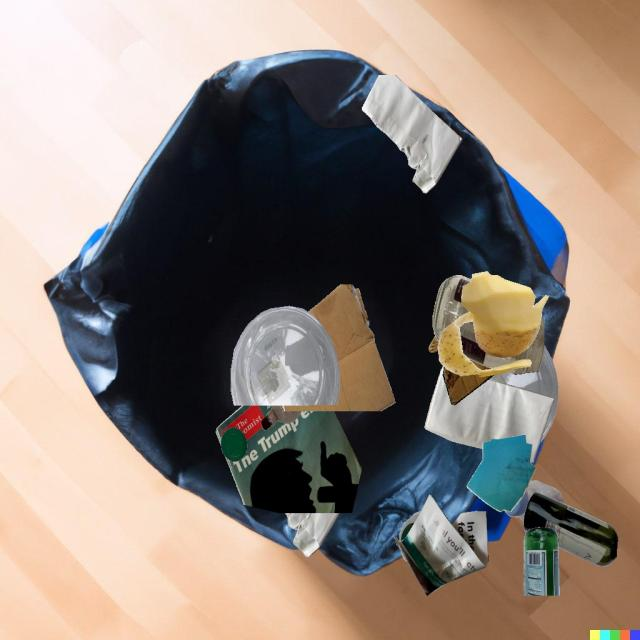biowaste: (438, 271, 548, 377)
cardboard: (282, 284, 395, 411), (429, 353, 468, 404), (451, 374, 494, 405)
glass: (523, 492, 618, 566), (459, 317, 545, 375), (433, 275, 471, 342), (524, 527, 560, 596)
paper: (216, 405, 362, 513), (425, 366, 554, 463), (362, 75, 462, 193), (394, 495, 488, 596), (467, 434, 536, 512), (285, 513, 340, 558)
plastic: (231, 306, 340, 405), (489, 346, 558, 443), (504, 480, 563, 521), (261, 405, 302, 430), (221, 427, 247, 462), (399, 511, 421, 542)
